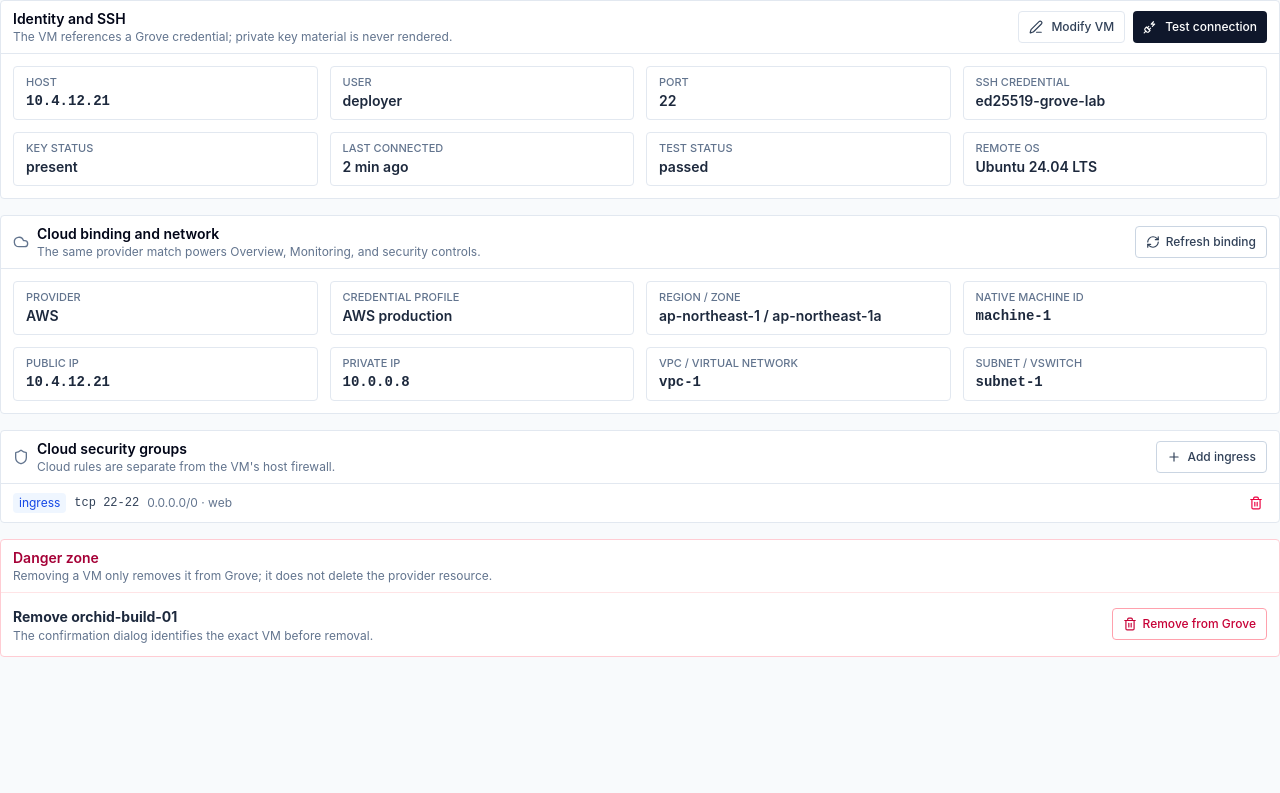
Test: VM Settings › uses the cloud binding and adjusts ingress rules for an imported VM
Expected: the text "AWS production" is shown, [342,307,452,324]
Expected: the text "tcp 22-22" is shown, [74,495,139,511]
Click the button "Add ingress".
click(1212, 457)  # box [1156,441,1267,473]
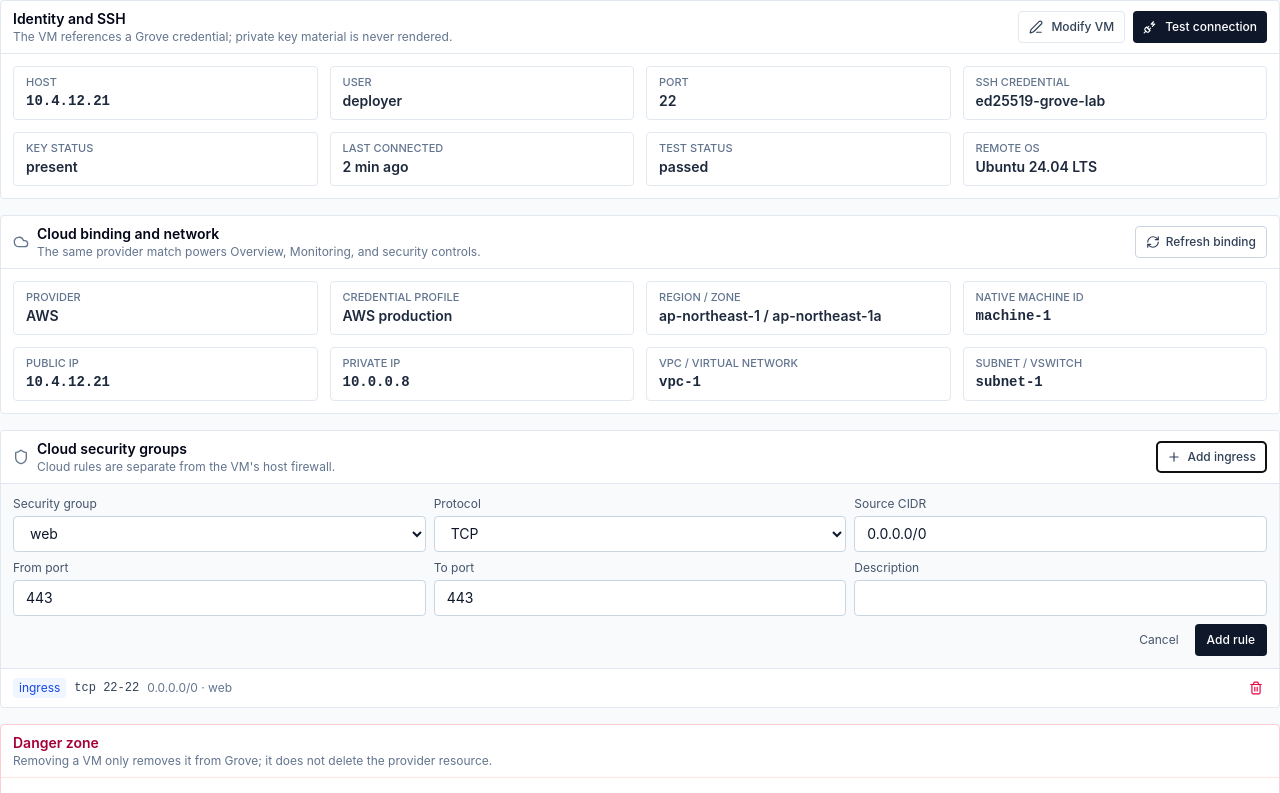
Click the button "Add rule".
click(1231, 640)  # box [1195,624,1267,656]
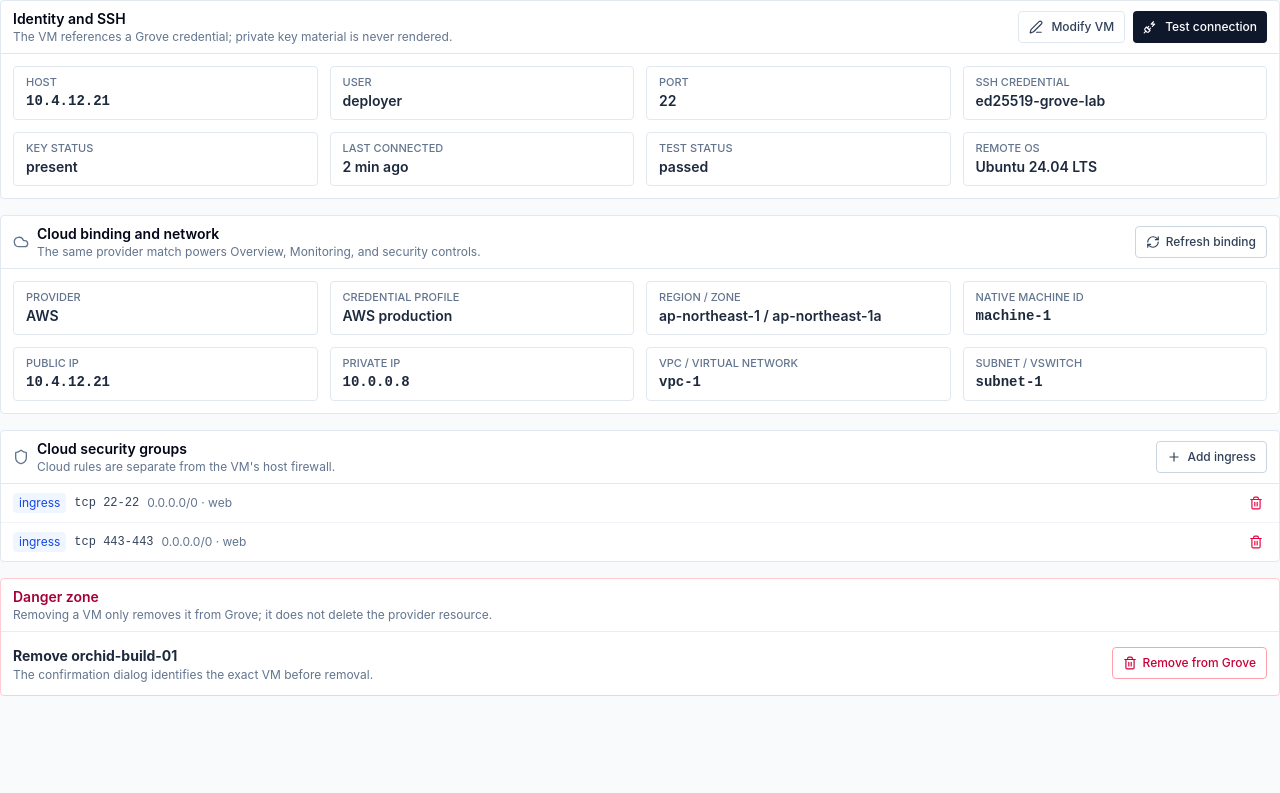
Expected: the text "tcp 443-443" is shown, [74,534,154,550]
